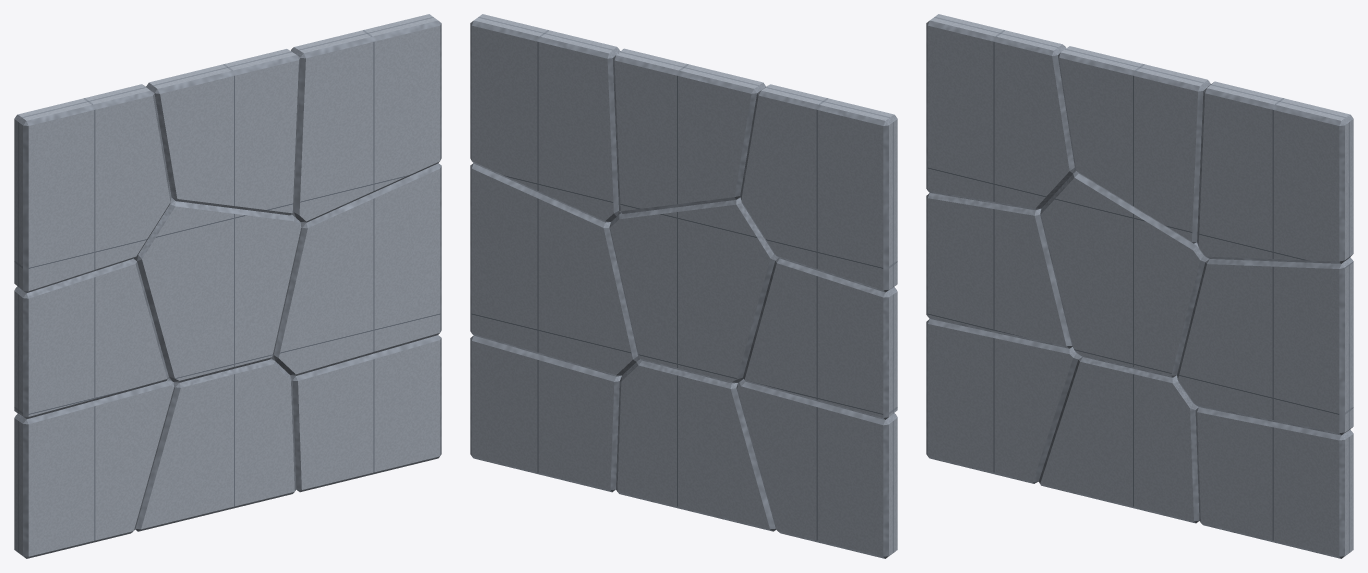
Rendered from Kit_Steel_Wall_Fractured.fbx.
3 views of the same model, side by side, from view 1: azimuth 30°, elevation 25°; view 2: azimuth 150°, elevation 25°; view 3: azimuth 330°, elevation 25° (orthographic).
Visible parts, largest first — view 1: Kit_Steel_Wall_frag_03, Kit_Steel_Wall_frag_08, Kit_Steel_Wall_frag_09, Kit_Steel_Wall_frag_05, Kit_Steel_Wall_frag_01, Kit_Steel_Wall_frag_06, Kit_Steel_Wall_frag_04, Kit_Steel_Wall_frag_02, Kit_Steel_Wall_frag_07; view 2: Kit_Steel_Wall_frag_03, Kit_Steel_Wall_frag_08, Kit_Steel_Wall_frag_09, Kit_Steel_Wall_frag_05, Kit_Steel_Wall_frag_01, Kit_Steel_Wall_frag_06, Kit_Steel_Wall_frag_04, Kit_Steel_Wall_frag_02, Kit_Steel_Wall_frag_07; view 3: Kit_Steel_Wall_frag_08, Kit_Steel_Wall_frag_09, Kit_Steel_Wall_frag_03, Kit_Steel_Wall_frag_05, Kit_Steel_Wall_frag_06, Kit_Steel_Wall_frag_04, Kit_Steel_Wall_frag_07, Kit_Steel_Wall_frag_01, Kit_Steel_Wall_frag_02.
Boxes of the visible parts, x1,y1,x2,y2 form: Kit_Steel_Wall_frag_03: (14,84,171,293); Kit_Steel_Wall_frag_08: (271,163,441,375); Kit_Steel_Wall_frag_09: (291,14,441,222); Kit_Steel_Wall_frag_05: (134,198,301,382); Kit_Steel_Wall_frag_01: (14,379,175,558); Kit_Steel_Wall_frag_06: (146,49,300,215); Kit_Steel_Wall_frag_04: (135,358,296,531); Kit_Steel_Wall_frag_02: (14,258,168,419); Kit_Steel_Wall_frag_07: (290,335,441,492); Kit_Steel_Wall_frag_03: (740,84,897,292); Kit_Steel_Wall_frag_08: (470,163,639,376); Kit_Steel_Wall_frag_09: (470,14,620,222); Kit_Steel_Wall_frag_05: (609,197,778,383); Kit_Steel_Wall_frag_01: (736,379,897,558); Kit_Steel_Wall_frag_06: (612,48,765,213); Kit_Steel_Wall_frag_04: (616,359,776,531); Kit_Steel_Wall_frag_02: (743,258,897,419); Kit_Steel_Wall_frag_07: (470,335,621,492); Kit_Steel_Wall_frag_08: (1177,257,1353,435); Kit_Steel_Wall_frag_09: (1197,81,1353,263); Kit_Steel_Wall_frag_03: (926,14,1076,210); Kit_Steel_Wall_frag_05: (1040,171,1209,377); Kit_Steel_Wall_frag_06: (1057,46,1210,243); Kit_Steel_Wall_frag_04: (1038,357,1199,523); Kit_Steel_Wall_frag_07: (1195,407,1353,558); Kit_Steel_Wall_frag_01: (926,319,1082,483); Kit_Steel_Wall_frag_02: (926,193,1072,348).
Size of what is drawn, in the model's own units: 3 by 3 by 0.16.
Materials: 2 (2 with a texture image).
